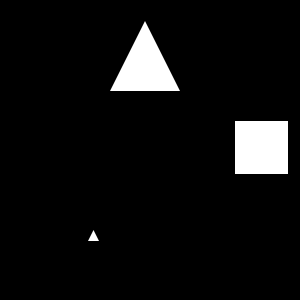circle: (235, 121, 288, 174)
triangle: (110, 21, 180, 91), (88, 230, 99, 241)
